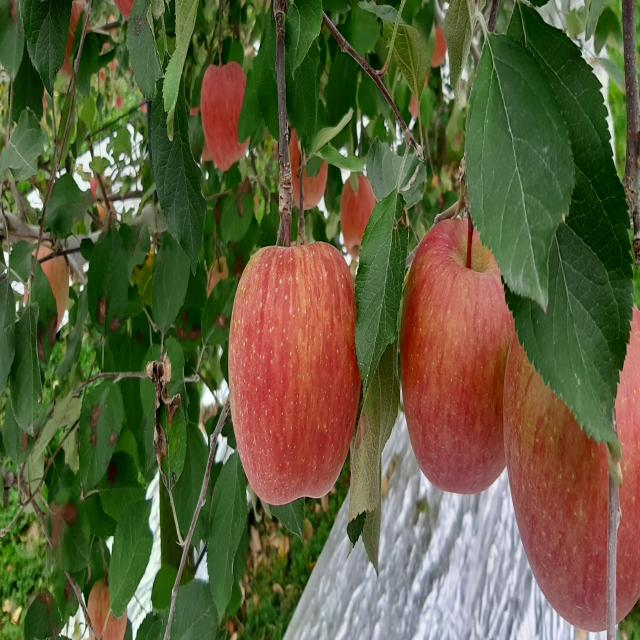fresh: (225, 230, 369, 517), (394, 206, 528, 503)
